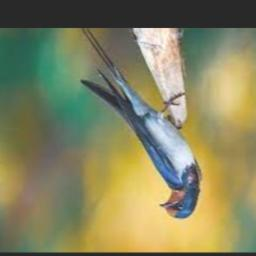Swallow: (80, 28, 200, 219)
